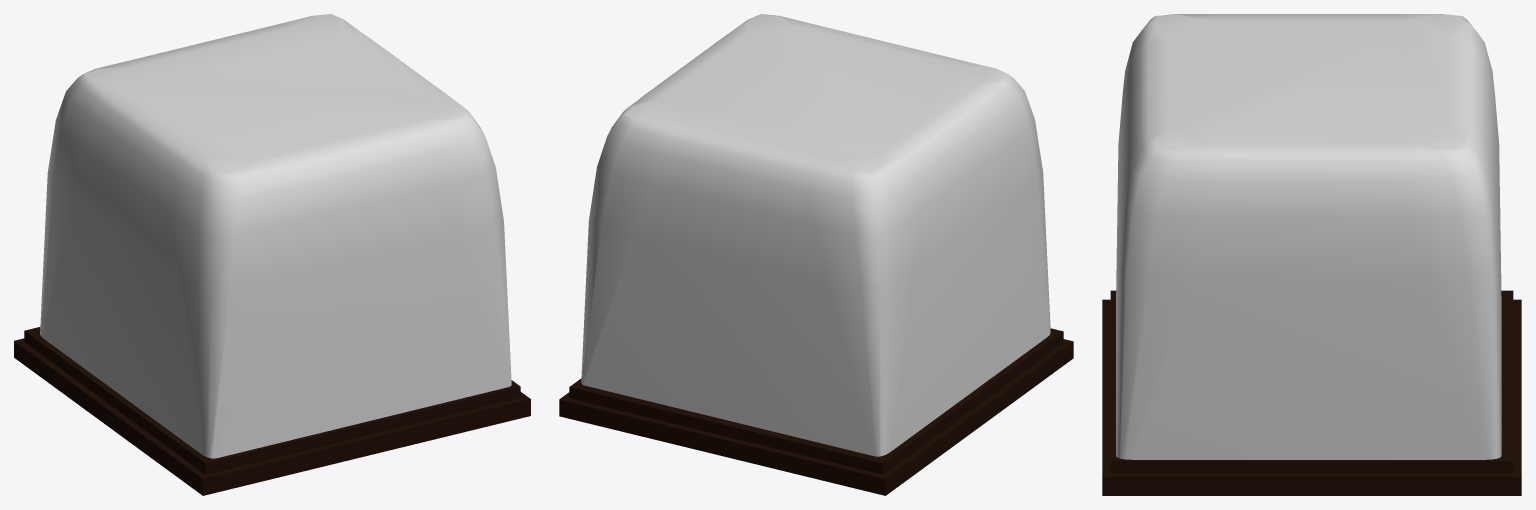
The model's file is Ballvitrine.FBX.
3 renders of one model, left to right at view 1: azimuth 30°, elevation 25°; view 2: azimuth 150°, elevation 25°; view 3: azimuth 270°, elevation 25°, orthographic. The views are drawn at different scales.
Parts seen in each view (by area): view 1: Ballvitrine; view 2: Ballvitrine; view 3: Ballvitrine.
Boxes of the visible parts, x1=… form: Ballvitrine: x1=14, y1=14, x2=530, y2=495; Ballvitrine: x1=559, y1=14, x2=1073, y2=495; Ballvitrine: x1=1102, y1=14, x2=1521, y2=495.
Bounding box in the file's own units: 172 × 147 × 171.
